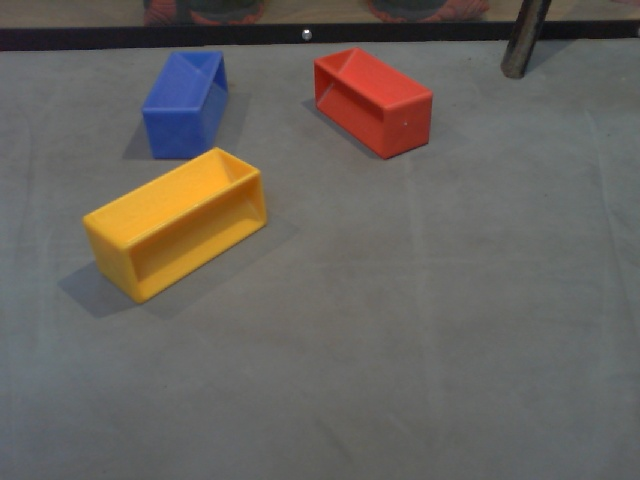BlueSample: (139, 47, 229, 160)
RedSample: (309, 46, 438, 164)
YellowSample: (79, 143, 270, 304)
